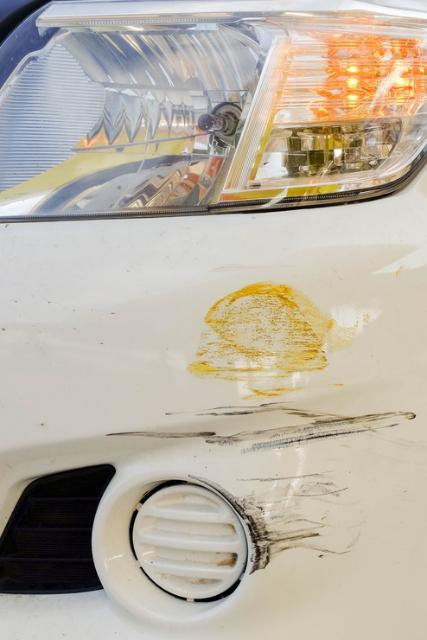Bumper: (107, 226, 413, 576)
